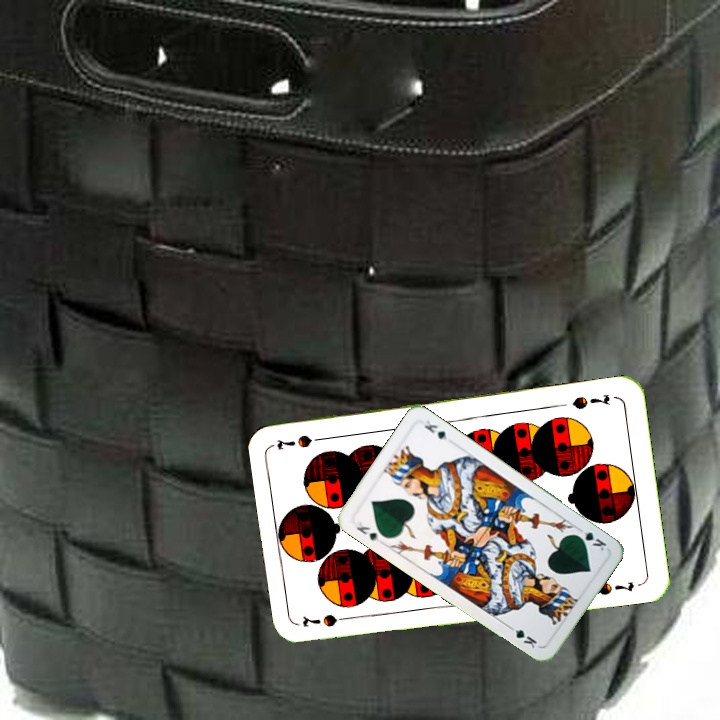GK: (571, 524, 609, 555), (352, 517, 383, 544)
S7: (298, 610, 356, 630), (568, 390, 613, 412)
